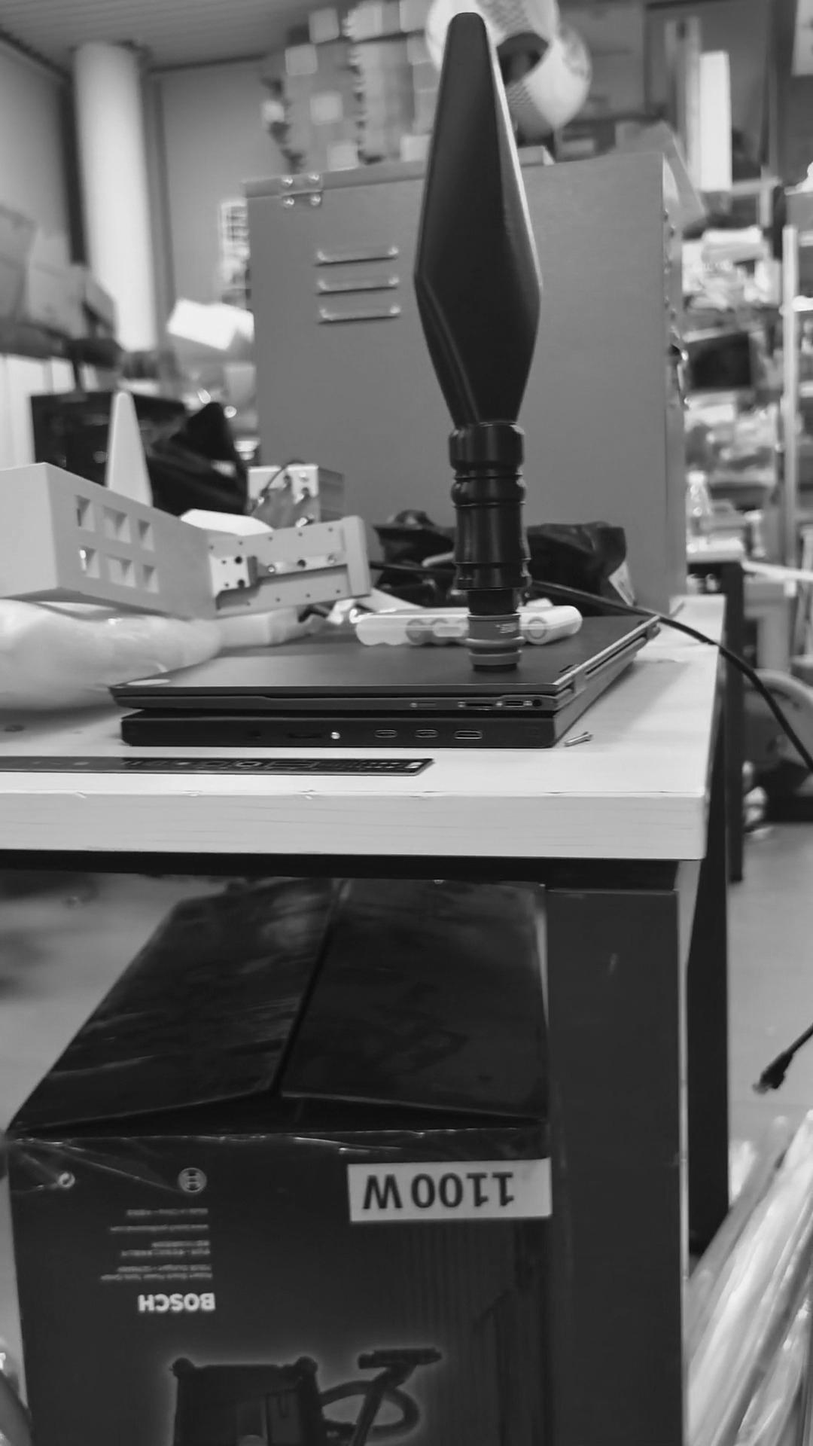base: (466, 613, 522, 673)
